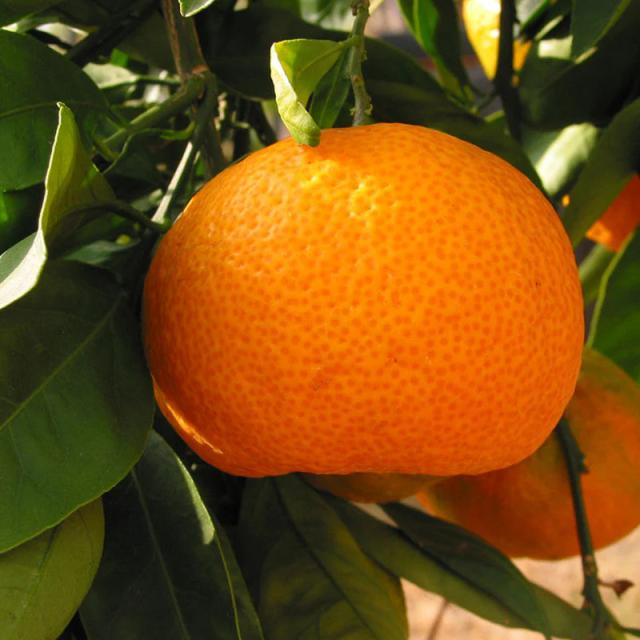orange: (141, 124, 588, 481)
